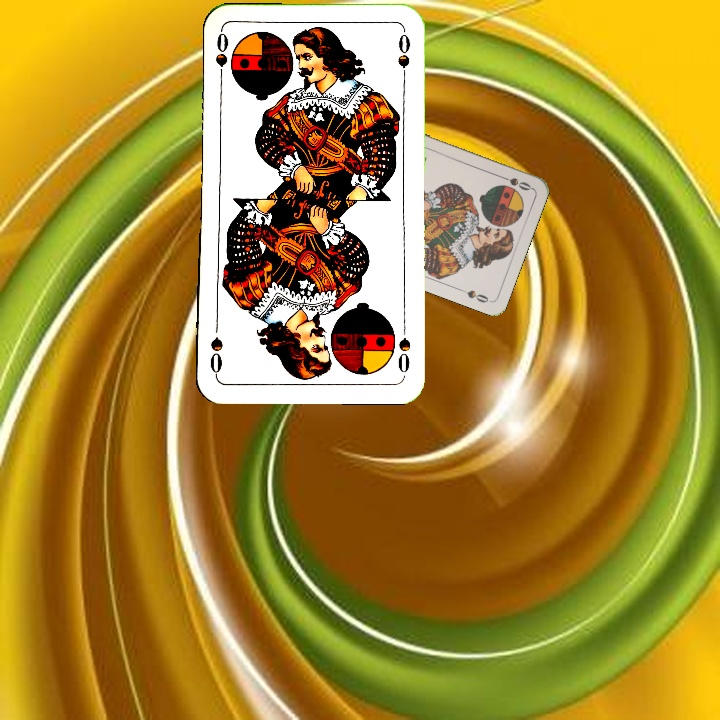SO: (393, 319, 413, 378), (212, 28, 231, 87), (495, 171, 534, 193)
